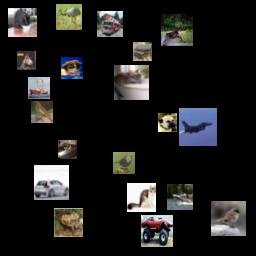airplane: (179, 108, 217, 146)
automobile: (34, 165, 69, 200), (58, 140, 77, 159)
bird: (211, 201, 246, 236), (56, 4, 82, 30), (31, 101, 53, 123), (113, 152, 135, 174)
cat: (114, 65, 149, 100), (127, 183, 156, 212), (8, 8, 37, 37)
deer: (161, 14, 193, 46)
dog: (61, 57, 83, 79), (158, 113, 177, 132)
frog: (54, 208, 83, 237), (133, 42, 152, 61)
ship: (167, 184, 193, 210), (28, 77, 50, 99)
truck: (141, 215, 173, 247), (97, 11, 123, 37)
